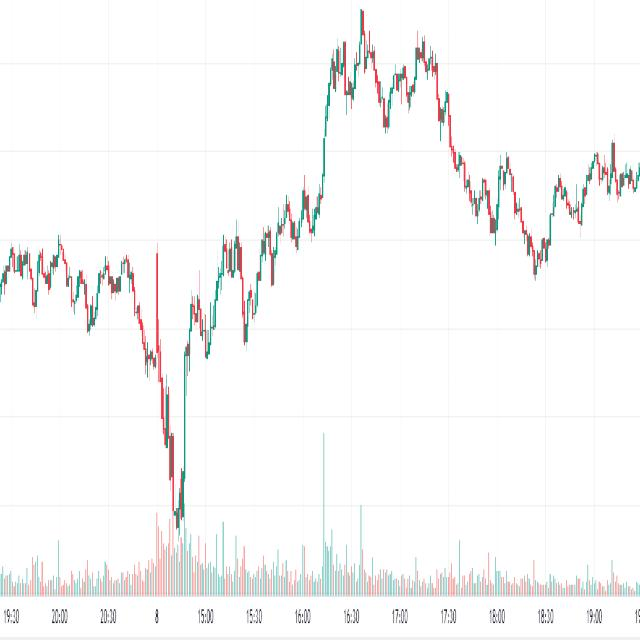Inverse-Head-Shoulders: (126, 274, 223, 537)
